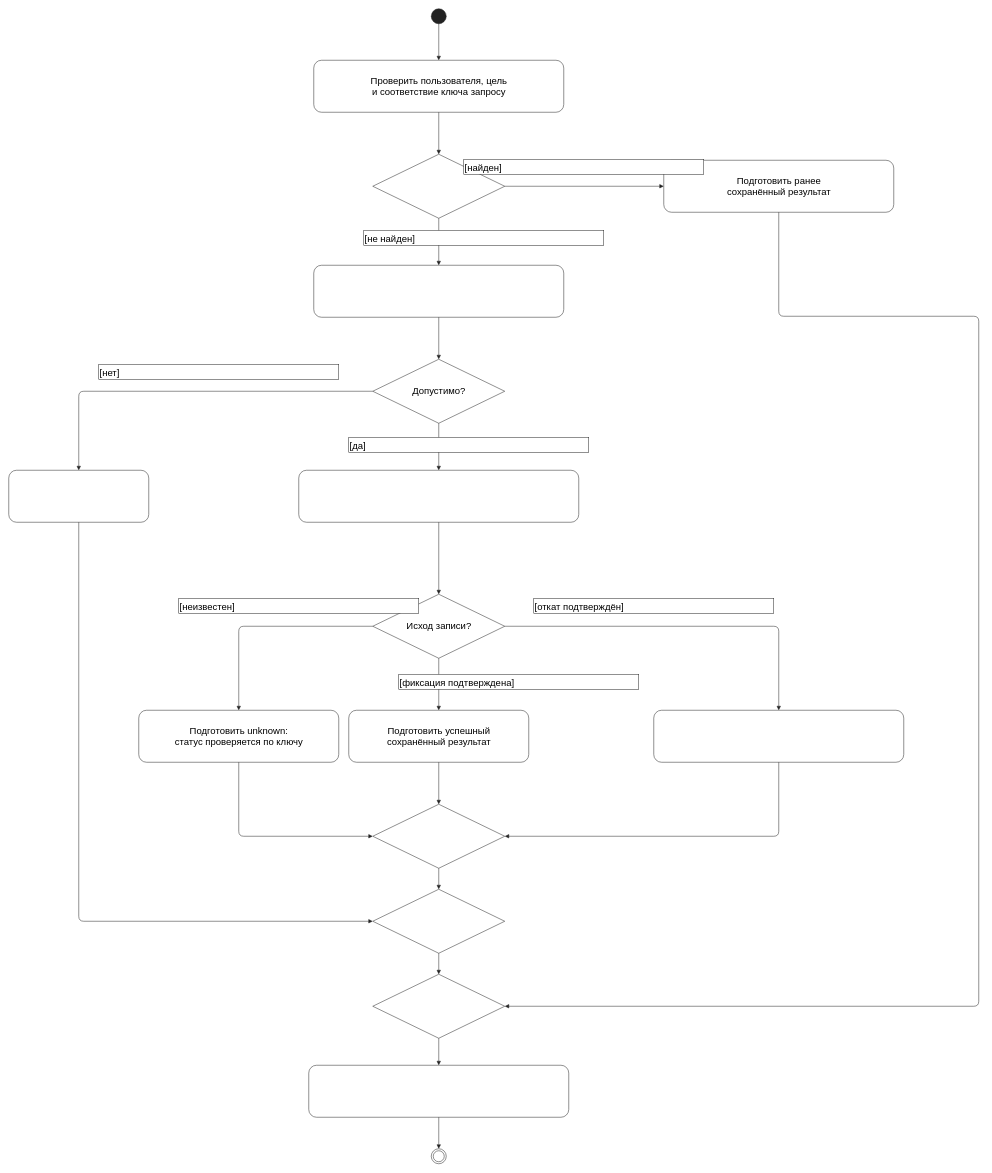
This 992x1173 diagram has some shape labels left out. The centre of each missing label's shape, as x and y in pixels:
"В транзакции сверить ключ и права, сохранить набор, итог и аудит" goes at [438,496].
"Вернуть OperationOutcome с прежним requestId" goes at [438,1091].
"Есть итог?" goes at [438,186].
"Подготовить подтверждённый отказ" goes at [78,496].
"После подтверждённого отката подготовить технический отказ" goes at [778,736].
"Проверить право импорта и содержимое файла" goes at [438,291].
